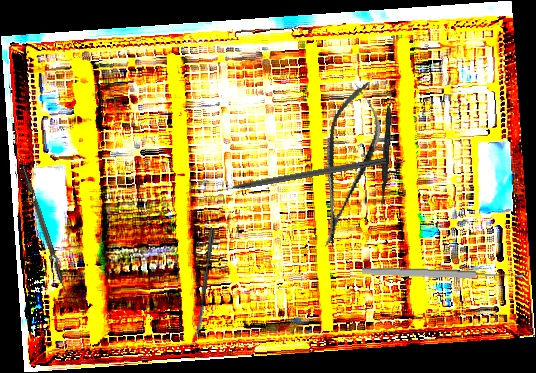Chopper: (20, 163, 76, 300)
Hook Surgical: (210, 155, 387, 195)
Micro Scissor: (301, 75, 392, 255)
Spatula Surgical: (380, 81, 394, 208)
Surgical Spoon: (361, 266, 524, 282), (194, 227, 215, 340)
